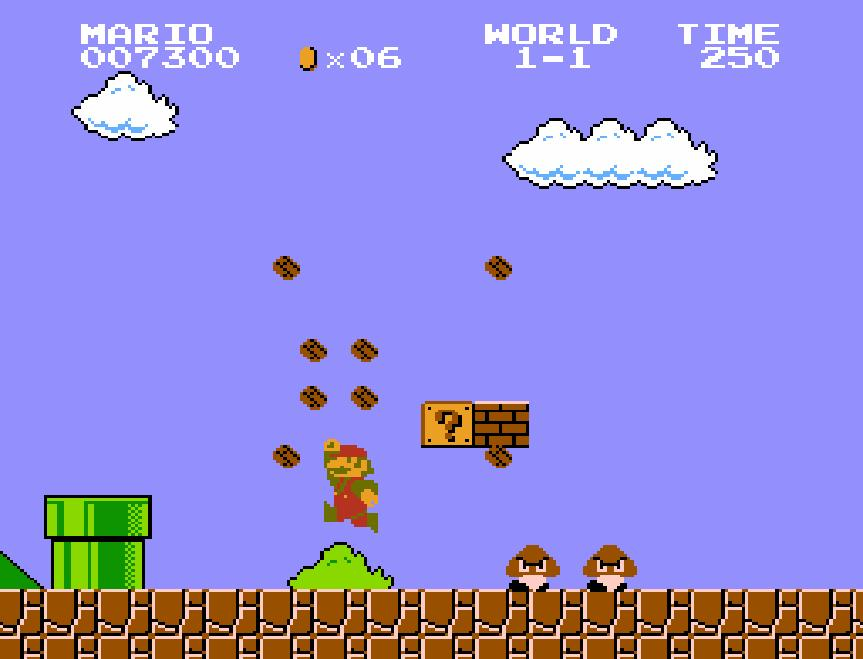big_mario: (322, 437, 380, 535)
